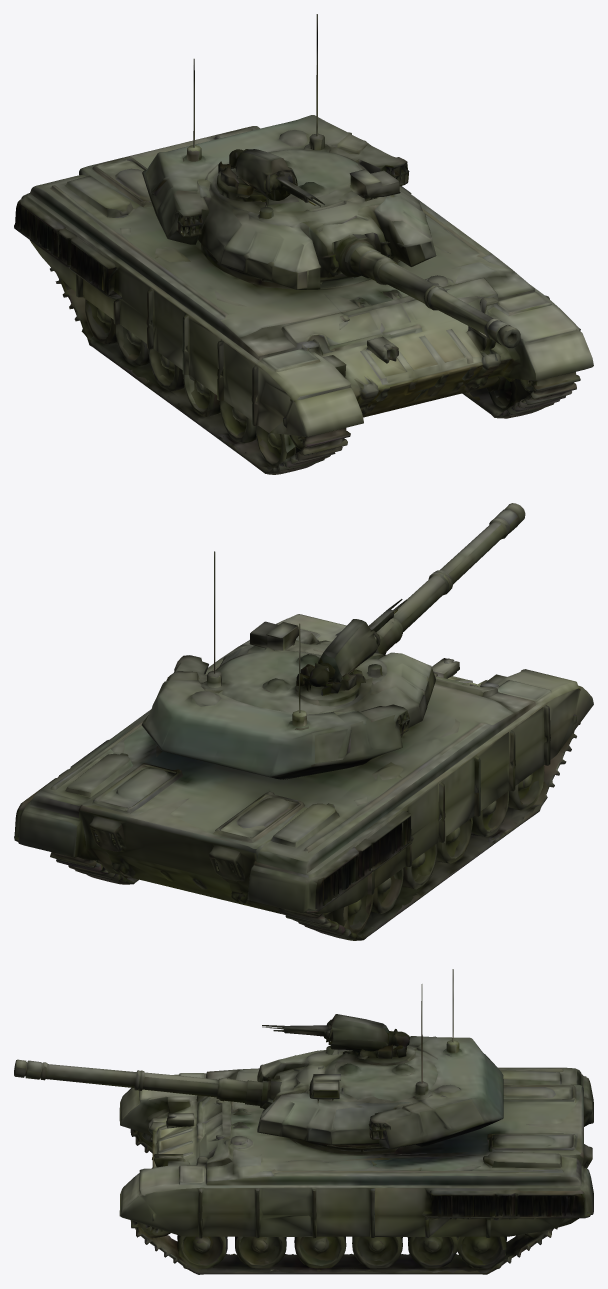
Rendered from t14_opt.glb.
3 views of the same model, one above another, from view 1: azimuth 30°, elevation 25°; view 2: azimuth 150°, elevation 25°; view 3: azimuth 270°, elevation 25° (orthographic). The views are drawn at different scales.
Parts seen in each view (by area): view 1: node_0; view 2: node_0; view 3: node_0.
Boxes of the visible parts, x1=… form: node_0: x1=14, y1=14, x2=593, y2=474; node_0: x1=14, y1=503, x2=593, y2=940; node_0: x1=14, y1=969, x2=593, y2=1274.
Bounding box in the file's own units: 0.5285 × 0.5251 × 1.06.
Materials: 1 (1 with a texture image).
